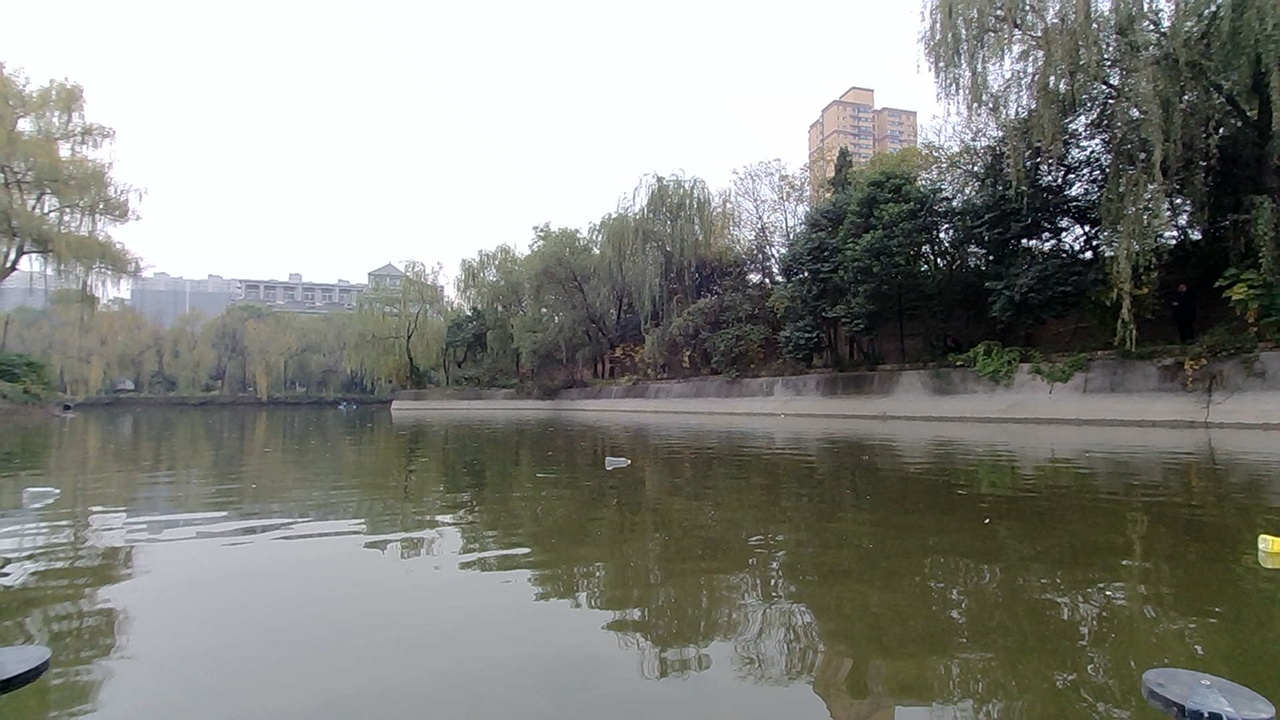bottle: (1, 574, 102, 628), (0, 472, 97, 515), (597, 435, 652, 474), (1257, 529, 1280, 574)
